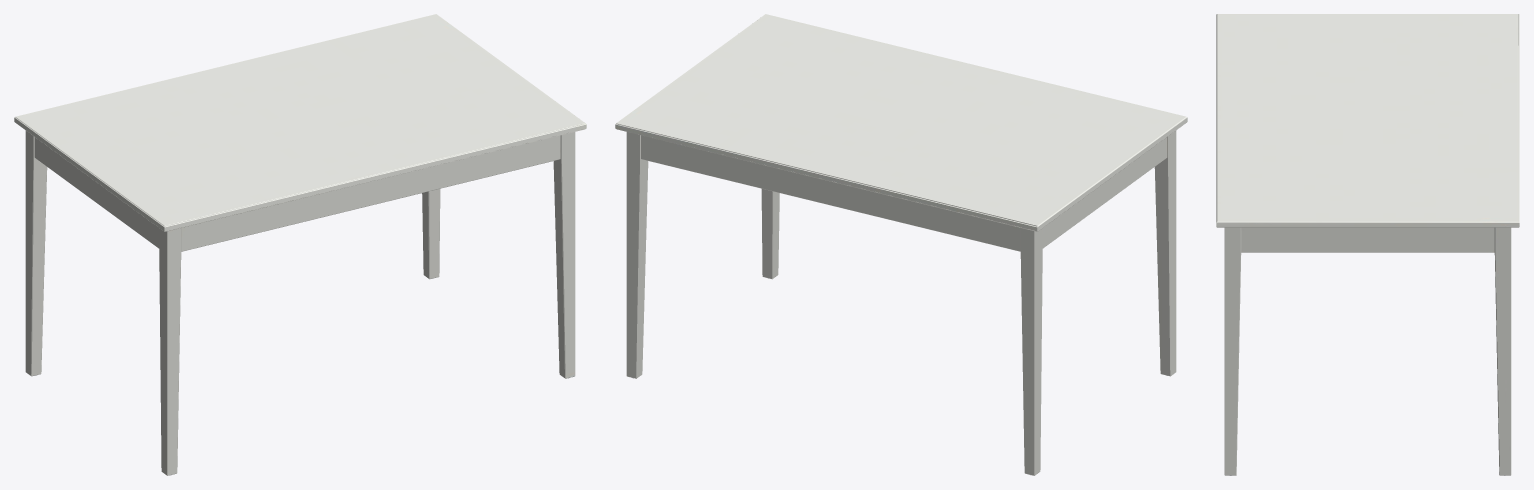
File: nasinge_sto_rozkadany_00587492.glb
3 views of the same model, side by side, from view 1: azimuth 30°, elevation 25°; view 2: azimuth 150°, elevation 25°; view 3: azimuth 270°, elevation 25° (orthographic).
Parts seen in each view (by area): view 1: nasinge_sto_rozkadany_00587492; view 2: nasinge_sto_rozkadany_00587492; view 3: nasinge_sto_rozkadany_00587492.
Part boxes in pixels (left/top/right/bottom): nasinge_sto_rozkadany_00587492: left=14, top=14, right=586, bottom=475; nasinge_sto_rozkadany_00587492: left=615, top=14, right=1187, bottom=475; nasinge_sto_rozkadany_00587492: left=1216, top=14, right=1519, bottom=475.
Bounding box in the file's own units: 1.3 × 0.7511 × 0.8.
1 material, 1 textured.
